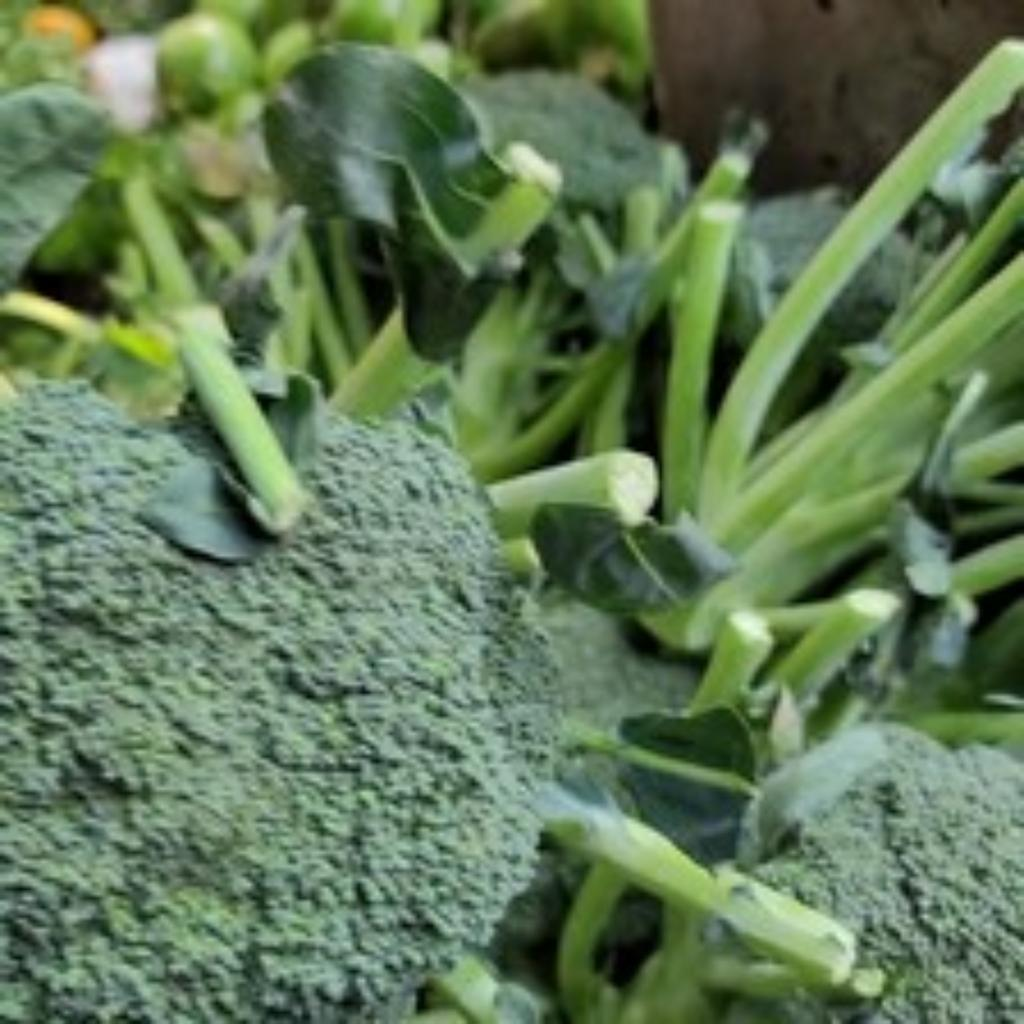Broccoli: (0, 386, 556, 1023), (0, 384, 554, 1023), (756, 726, 1024, 1023), (756, 728, 1024, 1023), (458, 70, 662, 213), (458, 70, 660, 213), (720, 186, 850, 359), (724, 186, 850, 348), (808, 248, 902, 351), (818, 260, 878, 347)
